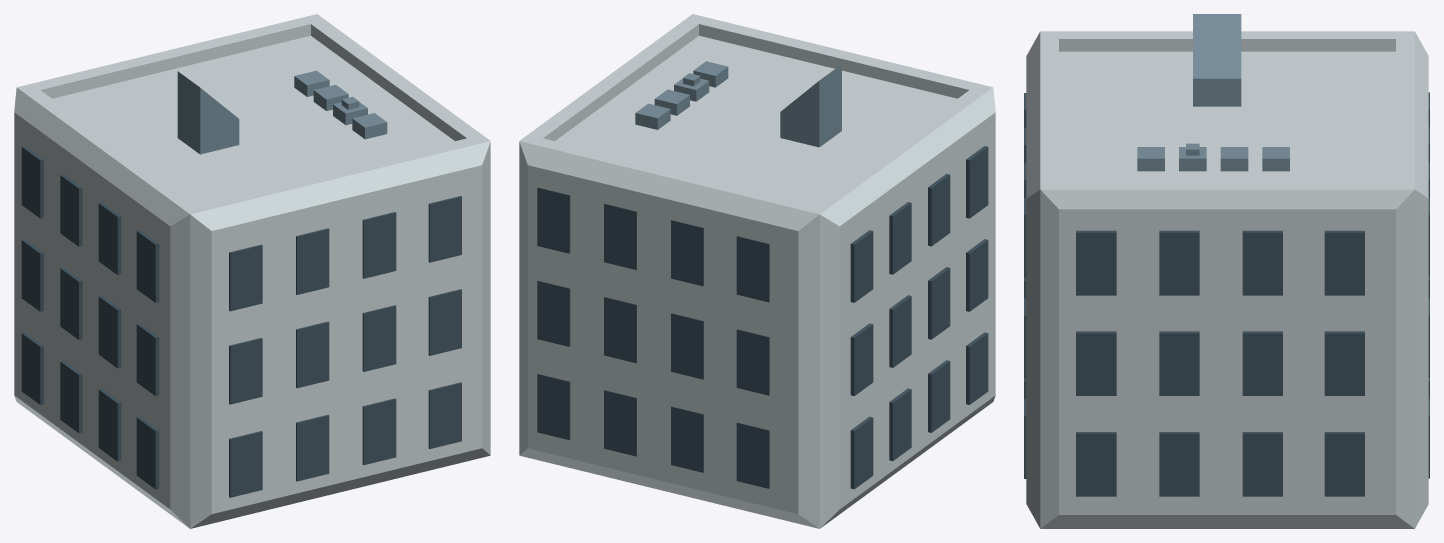
The model's file is Distant Building 01.glb.
3 views of the same model, side by side, from view 1: azimuth 30°, elevation 25°; view 2: azimuth 150°, elevation 25°; view 3: azimuth 270°, elevation 25° (orthographic). The views are drawn at different scales.
Parts seen in each view (by area): view 1: Node; view 2: Node; view 3: Node.
Boxes of the visible parts, x1,y1,x2,y2 form: Node: (14, 14, 490, 528); Node: (519, 14, 995, 528); Node: (1024, 14, 1429, 528).
Bounding box in the file's own units: 0.5833 × 0.635 × 0.585.
